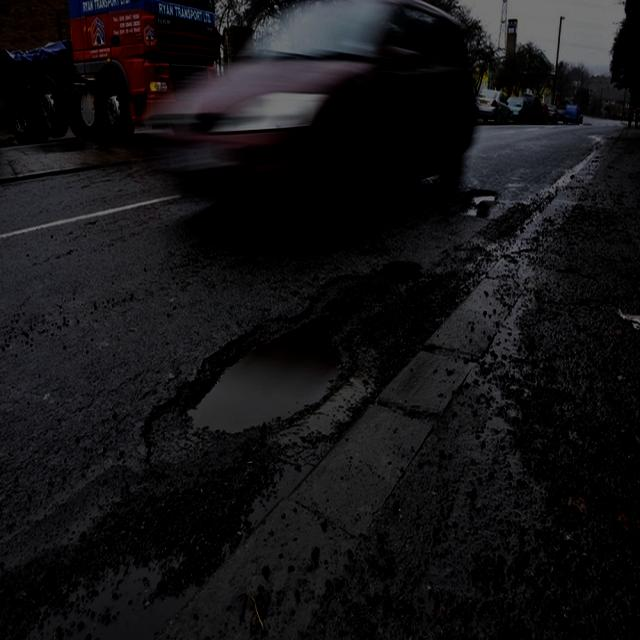Pothole: (148, 253, 441, 479), (446, 182, 501, 226)
